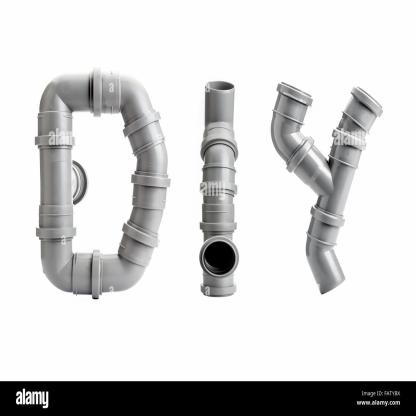PVC: (37, 73, 169, 292), (270, 80, 383, 295), (197, 80, 239, 297)
